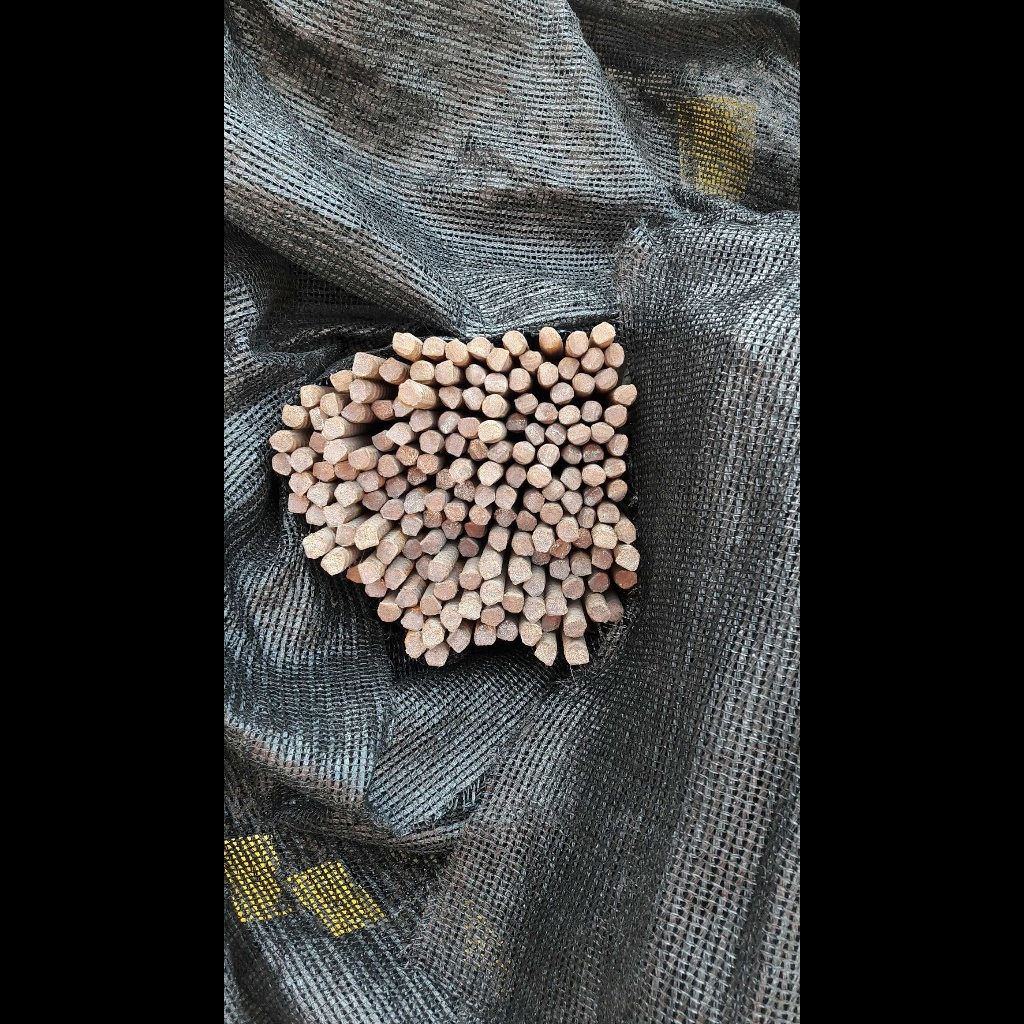dipstick: (279, 404, 306, 428), (458, 593, 481, 621), (479, 419, 504, 444), (391, 331, 417, 355), (507, 558, 531, 584), (502, 330, 527, 354), (434, 360, 458, 385), (397, 380, 421, 405), (379, 358, 403, 383), (591, 322, 617, 345), (301, 536, 327, 559), (477, 462, 503, 485), (402, 633, 425, 659), (527, 465, 553, 488), (423, 621, 444, 649), (440, 604, 461, 632), (537, 326, 560, 351), (410, 360, 435, 383), (480, 580, 503, 605), (592, 526, 617, 549), (615, 547, 640, 570), (513, 440, 535, 466), (286, 473, 312, 495), (353, 527, 381, 547), (445, 339, 468, 363), (485, 347, 508, 371), (566, 331, 589, 355), (437, 386, 461, 409), (418, 430, 441, 454), (386, 423, 411, 445), (405, 489, 427, 514), (447, 629, 469, 654), (560, 467, 582, 492), (510, 534, 535, 556), (353, 351, 372, 379), (581, 347, 604, 370), (514, 392, 537, 415), (334, 483, 357, 506), (540, 502, 563, 525), (522, 599, 545, 622), (422, 336, 446, 358), (534, 402, 558, 424), (613, 384, 637, 406), (481, 395, 505, 417), (537, 443, 559, 467), (322, 440, 346, 462), (478, 557, 502, 579), (555, 520, 579, 542), (591, 546, 613, 570), (562, 576, 584, 600), (466, 337, 491, 358), (376, 540, 397, 565), (424, 646, 449, 667), (341, 402, 367, 422), (595, 368, 618, 390), (485, 372, 508, 394), (456, 417, 479, 439), (291, 451, 314, 473), (588, 570, 610, 593), (537, 361, 558, 385), (567, 425, 591, 446), (487, 442, 511, 463), (462, 386, 483, 410), (437, 411, 458, 435), (322, 418, 346, 439), (270, 452, 291, 476), (321, 552, 342, 576), (582, 464, 606, 485), (521, 623, 542, 647), (535, 641, 556, 665), (379, 500, 404, 520), (558, 357, 580, 379), (409, 409, 431, 431), (270, 430, 292, 452), (377, 454, 399, 476), (421, 507, 443, 529), (419, 595, 441, 617), (522, 491, 544, 513), (604, 405, 627, 426), (465, 363, 486, 386), (604, 458, 627, 479), (348, 379, 369, 402), (319, 392, 340, 415), (313, 461, 336, 482), (385, 476, 406, 499), (385, 567, 406, 590), (450, 460, 473, 481), (475, 485, 496, 508), (468, 504, 491, 525), (400, 610, 423, 631), (607, 479, 628, 502), (615, 569, 638, 590), (572, 373, 596, 393), (549, 383, 573, 403), (299, 384, 319, 408), (376, 603, 400, 623), (493, 507, 517, 527), (562, 491, 582, 515), (533, 528, 553, 552), (335, 462, 360, 481), (559, 404, 581, 425), (545, 425, 567, 446), (591, 422, 613, 443), (329, 370, 351, 391), (304, 505, 325, 527), (357, 470, 379, 491), (335, 525, 356, 547), (598, 503, 620, 524), (571, 556, 593, 577), (348, 449, 371, 469), (357, 563, 380, 583), (400, 516, 423, 536), (395, 590, 418, 610), (433, 580, 456, 600), (458, 571, 481, 591), (473, 626, 496, 646), (496, 485, 516, 508), (582, 486, 605, 506), (546, 596, 569, 616), (369, 400, 393, 419), (565, 644, 589, 663), (446, 432, 463, 458), (519, 350, 540, 371), (308, 485, 329, 506), (286, 493, 307, 514), (454, 481, 475, 502), (516, 510, 537, 531), (523, 575, 544, 596), (508, 368, 528, 390), (468, 438, 488, 460), (396, 446, 418, 466), (416, 454, 438, 474), (363, 490, 385, 510), (564, 618, 586, 638), (588, 604, 610, 624), (443, 502, 466, 521), (481, 608, 504, 627), (608, 342, 625, 367), (581, 401, 601, 422), (524, 425, 544, 446), (371, 430, 392, 450), (441, 519, 461, 540), (497, 622, 518, 642), (502, 593, 523, 613), (543, 481, 564, 501), (616, 524, 637, 544), (550, 559, 570, 580), (506, 465, 525, 487), (609, 433, 627, 456), (561, 444, 581, 464), (427, 561, 447, 581), (507, 413, 526, 434), (392, 396, 413, 415), (323, 506, 344, 525), (458, 539, 479, 558), (309, 407, 326, 430), (579, 506, 596, 529), (407, 466, 427, 485), (435, 469, 454, 489), (542, 613, 561, 633), (583, 445, 604, 463), (489, 530, 507, 551), (551, 540, 572, 558), (365, 581, 387, 598), (574, 529, 592, 549), (309, 431, 325, 453), (414, 558, 429, 581), (426, 493, 445, 511), (420, 538, 440, 555), (345, 567, 362, 586), (404, 540, 421, 559), (531, 549, 551, 565), (607, 602, 623, 622), (465, 521, 484, 537)
